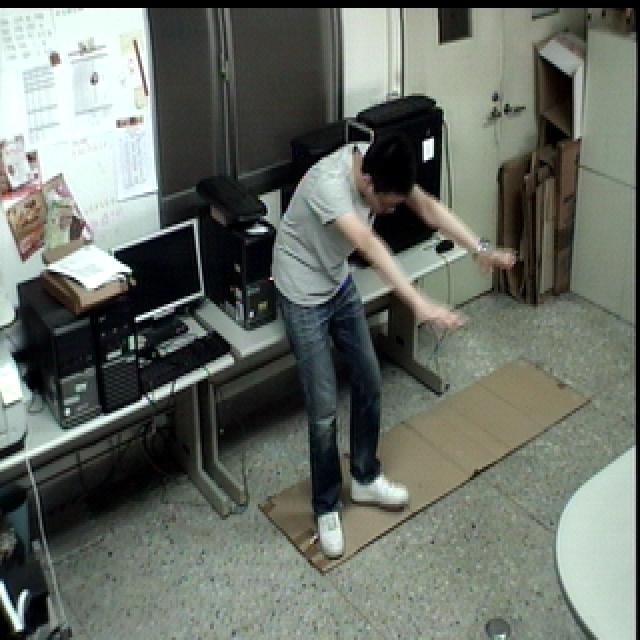bend: (259, 124, 520, 565)
